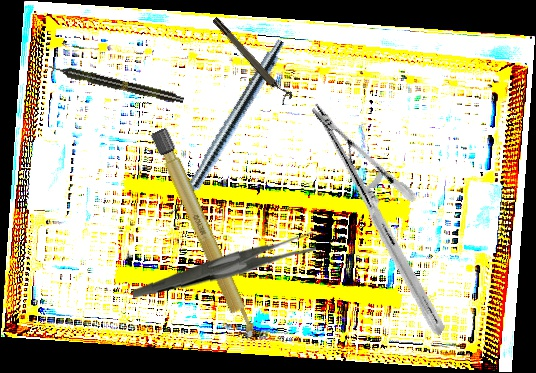Dressing Forceps: (132, 225, 317, 305)
Fixation Ring: (210, 12, 295, 106)
Handpiece: (165, 35, 289, 222), (47, 60, 185, 107)
Needle Holder: (246, 102, 510, 337)
Scalpel Handle: (149, 125, 261, 347)
